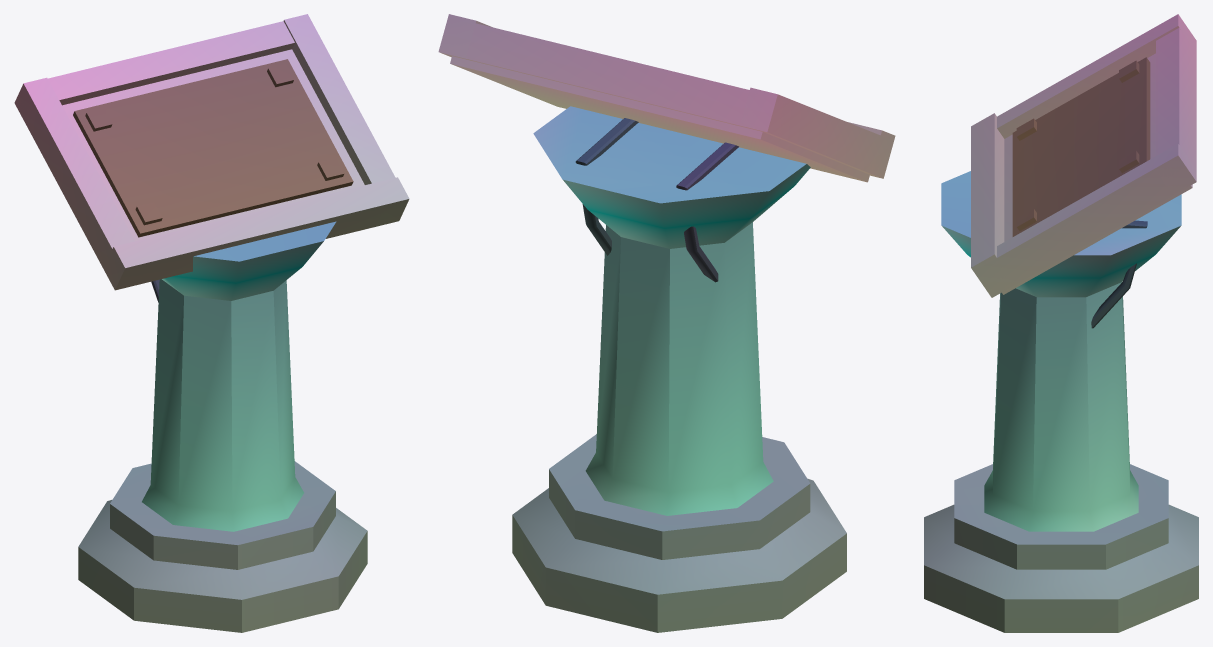
Rendered from plaque.glb.
3 renders of one model, left to right at view 1: azimuth 30°, elevation 25°; view 2: azimuth 150°, elevation 25°; view 3: azimuth 270°, elevation 25°, orthographic. The views are drawn at different scales.
Visible parts, largest first — view 1: plaque_post, plaque_slab, plaque_bronze, plaque_plinth; view 2: plaque_post, plaque_plinth, plaque_slab, plaque_bracket, plaque_bracket.001; view 3: plaque_post, plaque_plinth, plaque_slab, plaque_bronze, plaque_bracket.001.
Boxes of the visible parts, left/top/right/bottom form: plaque_post: left=142, top=221, right=336, bottom=531; plaque_slab: left=14, top=14, right=409, bottom=290; plaque_bronze: left=73, top=59, right=353, bottom=237; plaque_plinth: left=78, top=461, right=367, bottom=632; plaque_post: left=533, top=106, right=810, bottom=515; plaque_plinth: left=512, top=434, right=846, bottom=632; plaque_slab: left=438, top=14, right=895, bottom=182; plaque_bracket: left=676, top=142, right=738, bottom=282; plaque_bracket.001: left=575, top=118, right=638, bottom=255; plaque_post: left=941, top=171, right=1181, bottom=531; plaque_plinth: left=924, top=464, right=1198, bottom=632; plaque_slab: left=971, top=14, right=1196, bottom=297; plaque_bronze: left=1012, top=57, right=1150, bottom=236; plaque_bracket.001: left=1091, top=220, right=1147, bottom=328.
Size of the model in its own units: 0.72 by 1.16 by 0.5913.
